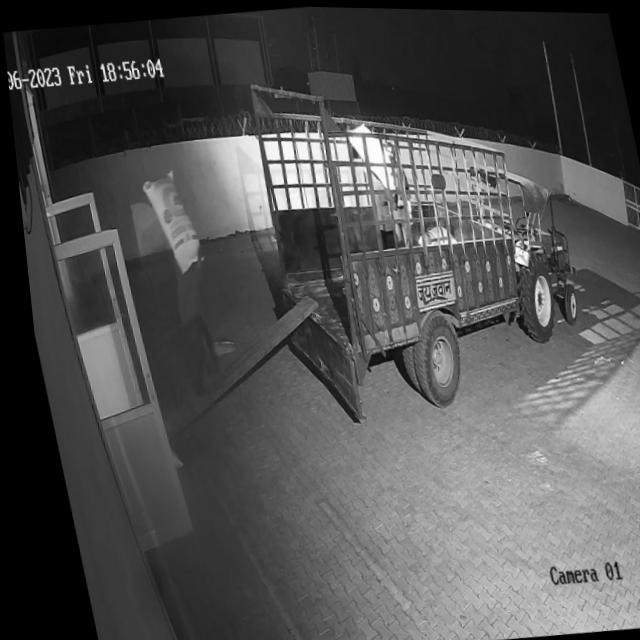sack: (135, 169, 198, 276)
